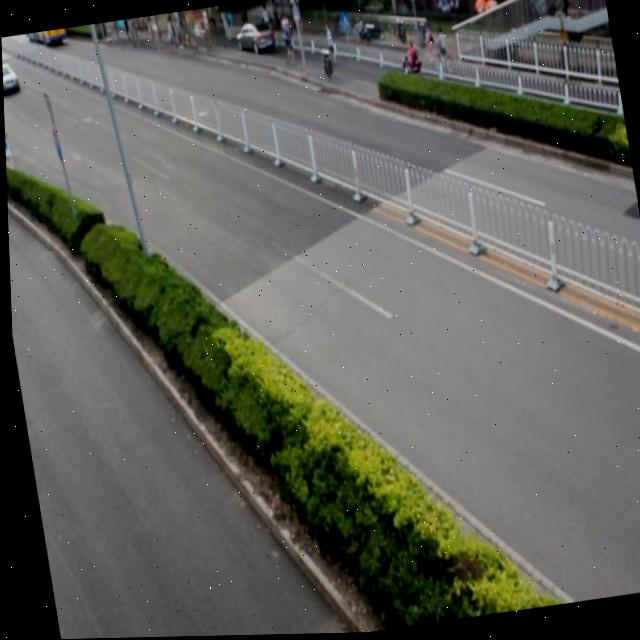car: (230, 14, 277, 59)
